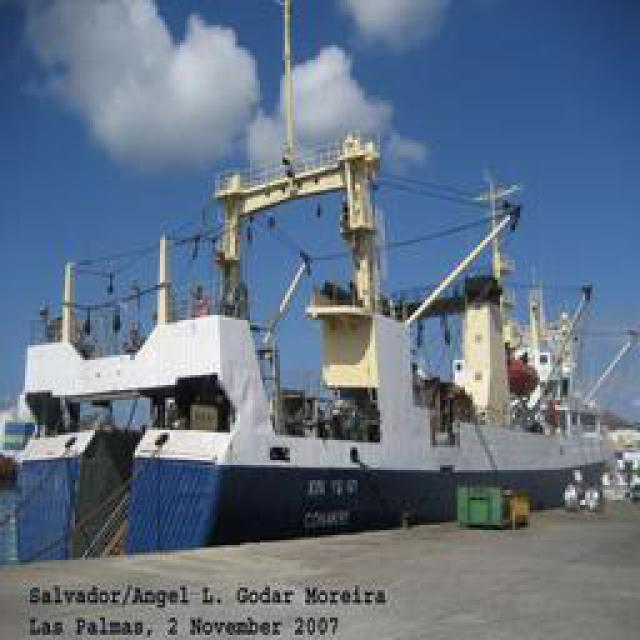Ship: (35, 94, 615, 539)
